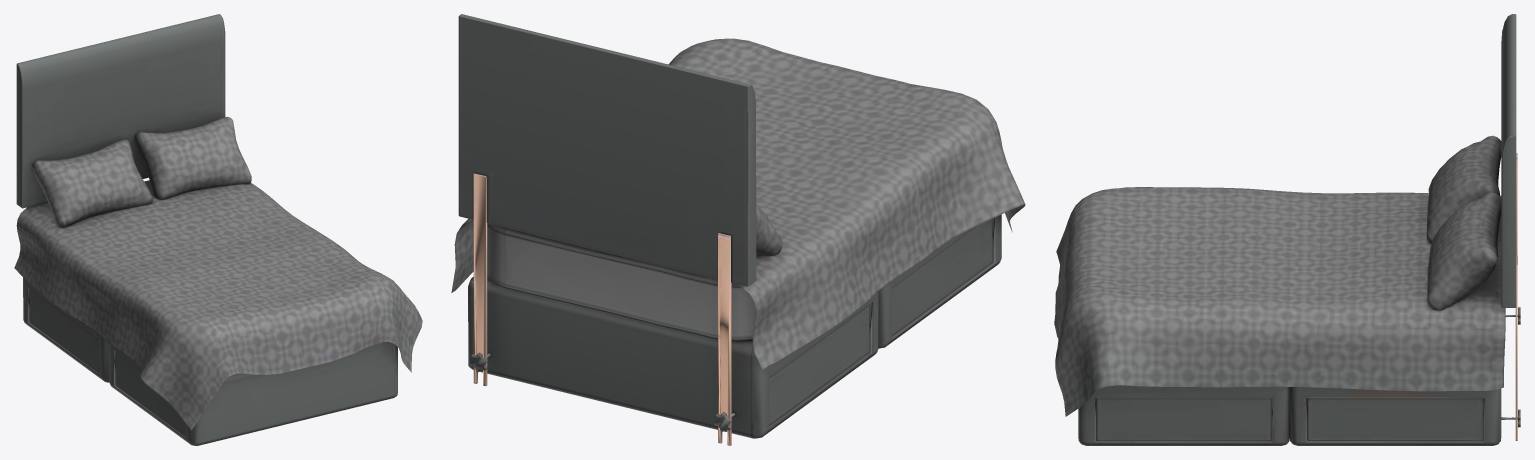
Rendered from bed_double.glb.
3 renders of one model, left to right at view 1: azimuth 30°, elevation 25°; view 2: azimuth 150°, elevation 25°; view 3: azimuth 270°, elevation 25°, orthographic. The views are drawn at different scales.
Visible parts, largest first — view 1: defaultMaterial; view 2: defaultMaterial; view 3: defaultMaterial.
Part boxes in pixels (x1,y1,x2,y2): defaultMaterial: (14,14,422,445); defaultMaterial: (451,14,1025,445); defaultMaterial: (1054,14,1520,445).
Bounding box in the file's own units: 1.8 × 1.62 × 2.19.
Materials: 1 (1 with a texture image).
